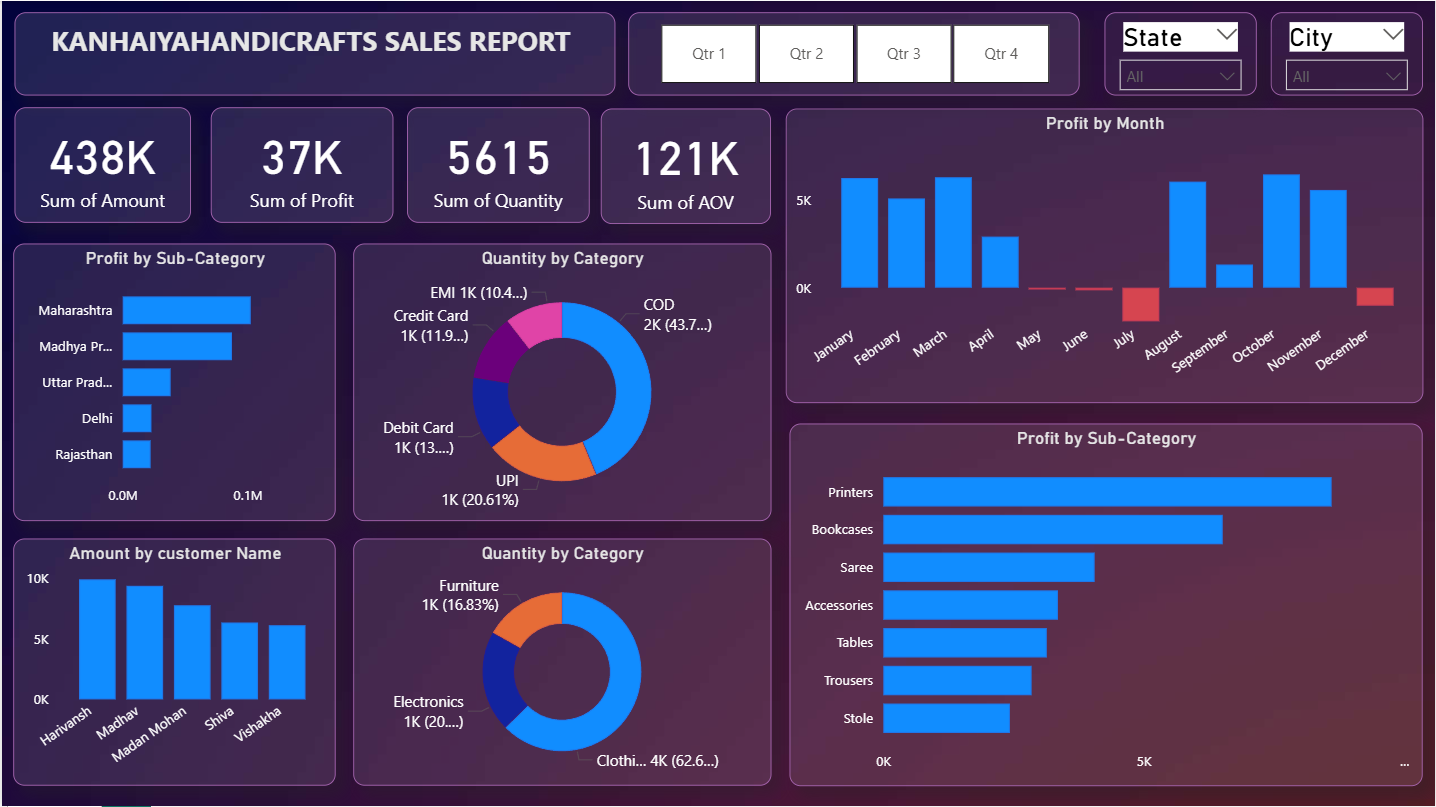

The dashboard page shown, as its layout file describes it:
{"tool":"powerbi","page":{"name":"Page 1","canvas":[1280,720],"ordinal":0},"visuals":[{"type":"columnChart","title":"Profit by Month","fields":{"Category":["Orders.Order Date.Variation.Date Hierarchy.Month"],"Y":["Details.Profit"]},"box":[699.8,96.1,569.5,263.5],"z":0},{"type":"textbox","title":"KANHAIYAHANDICRAFTS SALES REPORT ","box":[11,9.6,536.5,74.1],"z":1000},{"type":"slicer","fields":{"Values":["Orders.Order Date.Variation.Date Hierarchy.Quarter"]},"box":[559.9,9.6,403.4,74.1],"z":2000},{"type":"slicer","fields":{"Values":["Orders.City"]},"box":[1133.5,9.6,135.8,74.1],"z":3000},{"type":"barChart","title":"Profit by Sub-Category","fields":{"Category":["Details.Sub-Category"],"Y":["Details.Profit"]},"box":[703.9,377.4,565.4,323.8],"z":4000},{"type":"donutChart","title":"Quantity by Category","fields":{"Category":["Details.Category"],"Y":["Details.Quantity"]},"box":[314,480.2,373.3,220.9],"z":5000},{"type":"donutChart","title":"Quantity by Category","fields":{"Y":["Details.Quantity"],"Category":["Details.PaymentMode"]},"box":[314,216.3,373.3,247.7],"z":6000},{"type":"card","fields":{"Values":["Details.Amount"]},"box":[11,94.7,157.8,102.9],"z":6001},{"type":"card","fields":{"Values":["Details.Profit"]},"box":[186.6,94.7,163.3,102.9],"z":6002},{"type":"card","fields":{"Values":["Details.Quantity"]},"box":[362.3,94.7,163.3,102.9],"z":6003},{"type":"card","fields":{"Values":["Details.AOV"]},"box":[535.2,96.1,152.3,102.9],"z":6004},{"type":"barChart","title":"Profit by Sub-Category","fields":{"Category":["Orders.State"],"Y":["Details.Amount"]},"box":[10.5,216.3,288.4,247.7],"z":6005},{"type":"columnChart","title":"Amount by customer Name","fields":{"Category":["Orders.customer Name"],"Y":["Details.Amount"]},"box":[10.5,480.2,288.4,220.9],"z":6006},{"type":"slicer","fields":{"Values":["Orders.State"]},"box":[985.3,9.6,135.8,74.1],"z":6007}]}

Visuals, with their boxes in screenshot pixels (x1, y1, x2, y2), scaled from the page's 1280x720 canvas onto the 1436x807 screenshot:
"Profit by Month" columnChart: box(785, 108, 1424, 403)
"KANHAIYAHANDICRAFTS SALES REPORT " textbox: box(12, 11, 614, 94)
slicer - Orders.Order Date.Variation.Date Hierarchy.Quarter: box(628, 11, 1081, 94)
slicer - Orders.City: box(1272, 11, 1424, 94)
"Profit by Sub-Category" barChart: box(790, 423, 1424, 786)
"Quantity by Category" donutChart: box(352, 538, 771, 786)
"Quantity by Category" donutChart: box(352, 242, 771, 520)
card - Details.Amount: box(12, 106, 189, 221)
card - Details.Profit: box(209, 106, 393, 221)
card - Details.Quantity: box(406, 106, 590, 221)
card - Details.AOV: box(600, 108, 771, 223)
"Profit by Sub-Category" barChart: box(12, 242, 335, 520)
"Amount by customer Name" columnChart: box(12, 538, 335, 786)
slicer - Orders.State: box(1105, 11, 1258, 94)
